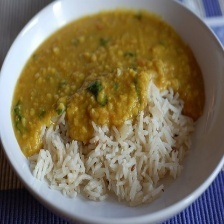dal: (12, 13, 210, 102)
